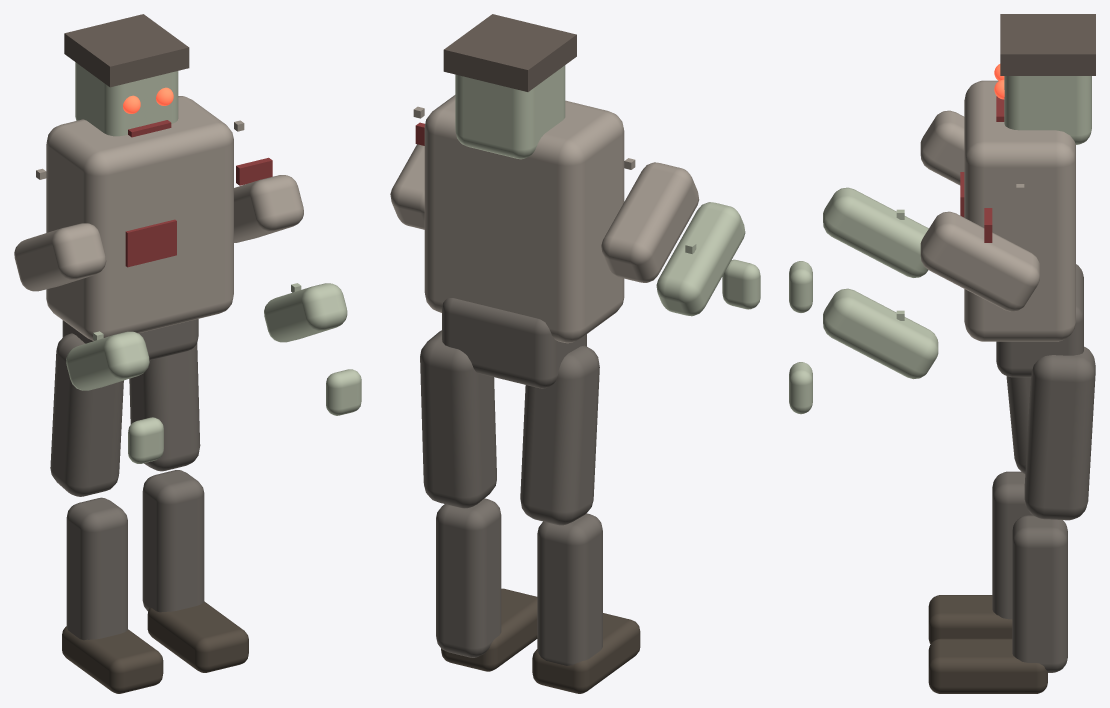
Rendered from walker_zombie_male.glb.
3 views of the same model, side by side, from view 1: azimuth 30°, elevation 25°; view 2: azimuth 150°, elevation 25°; view 3: azimuth 270°, elevation 25° (orthographic). The views are drawn at different scales.
Parts seen in each view (by area): view 1: torso_mesh, shin_r, shin_l, thigh_l, hair_mesh, thigh_r, foot_r, head_mesh, upper_arm_l, foot_l, upper_arm_r, forearm_l (+6 smaller); view 2: torso_mesh, thigh_l, thigh_r, shin_r, shin_l, pelvis_mesh, upper_arm_l, head_mesh, hair_mesh, forearm_l, foot_l, foot_r (+2 smaller); view 3: torso_mesh, thigh_r, shin_r, upper_arm_r, forearm_r, hair_mesh, foot_r, forearm_l, head_mesh, shin_l, foot_l, pelvis_mesh (+4 smaller).
Part boxes in pixels (x1,y1,x2,y2): torso_mesh: (46,96,233,340); shin_r: (142,470,204,612); shin_l: (66,497,127,640); thigh_l: (50,333,123,496); hair_mesh: (64,14,189,87); thigh_r: (129,343,200,471); foot_r: (147,601,248,672); head_mesh: (75,62,178,136); upper_arm_l: (14,223,106,291); foot_l: (62,626,163,693); upper_arm_r: (234,175,303,242); forearm_l: (66,331,149,390); torso_mesh: (424,95,624,343); thigh_l: (520,345,599,525); thigh_r: (420,330,496,508); shin_r: (436,498,501,657); shin_l: (537,513,602,665); pelvis_mesh: (442,298,586,388); upper_arm_l: (601,162,699,282); head_mesh: (455,65,565,159); hair_mesh: (443,14,576,91); forearm_l: (656,202,745,316); foot_l: (532,613,640,693); foot_r: (441,588,537,671); torso_mesh: (964,80,1075,341); thigh_r: (1024,346,1095,520); shin_r: (1012,515,1067,672); upper_arm_r: (920,211,1039,311); forearm_r: (823,288,938,379); hair_mesh: (1000,14,1095,75); foot_r: (928,638,1047,693); forearm_l: (823,187,928,277); head_mesh: (1004,76,1091,144); shin_l: (992,471,1032,619); foot_l: (928,595,1012,643); pelvis_mesh: (996,264,1083,377).
Size of the model in its own units: 0.74 by 1.74 by 0.77.
